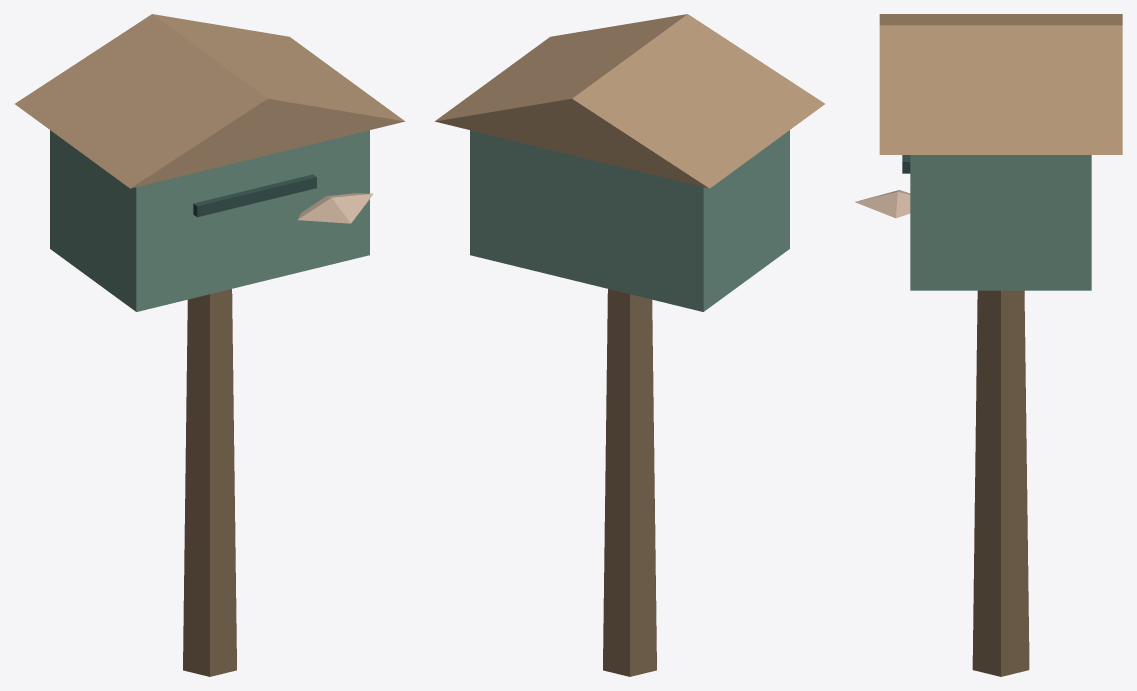
File: map-exclusive-v3__village_11.glb
The picture shows the model from 3 angles, left to right: view 1: azimuth 30°, elevation 25°; view 2: azimuth 150°, elevation 25°; view 3: azimuth 270°, elevation 25°; orthographic projection. The views are drawn at different scales.
Visible parts, largest first — view 1: village_11; view 2: village_11; view 3: village_11.
Boxes of the visible parts, x1=… form: village_11: x1=15, y1=14, x2=404, y2=676; village_11: x1=435, y1=14, x2=824, y2=676; village_11: x1=855, y1=14, x2=1122, y2=676.
Bounding box in the file's own units: 0.92 × 1.94 × 0.7394.
